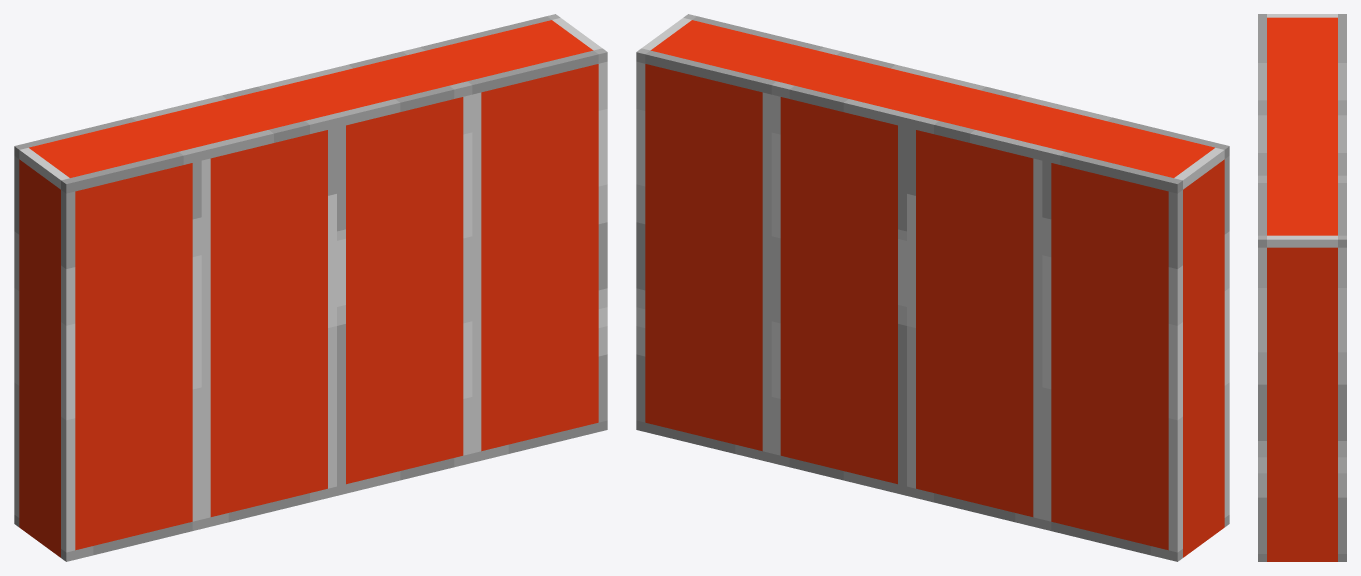
File: Engineering Wall 1.obj
3 views of the same model, side by side, from view 1: azimuth 30°, elevation 25°; view 2: azimuth 150°, elevation 25°; view 3: azimuth 270°, elevation 25° (orthographic). The views are drawn at different scales.
Size of the model in its own units: 60 by 40 by 10.
Materials: 1 (1 with a texture image).
